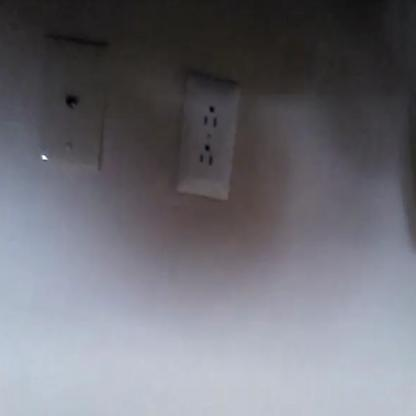OUTLET: (174, 79, 240, 202)
